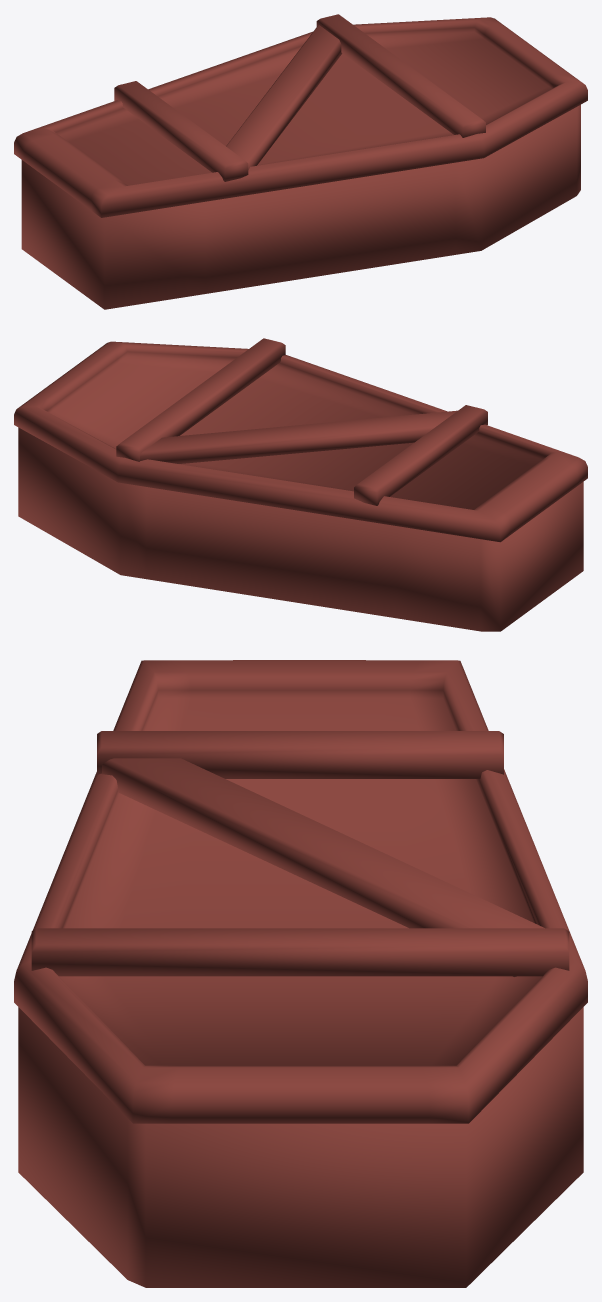
The model's file is Casket_Outside.glb.
3 views of the same model, one above another, from view 1: azimuth 30°, elevation 25°; view 2: azimuth 150°, elevation 25°; view 3: azimuth 270°, elevation 25° (orthographic). The views are drawn at different scales.
Visible parts, largest first — view 1: Casket_Outside; view 2: Casket_Outside; view 3: Casket_Outside.
Boxes of the visible parts, bbox=[...] form: Casket_Outside: bbox=[14, 14, 587, 309]; Casket_Outside: bbox=[14, 338, 587, 631]; Casket_Outside: bbox=[14, 660, 587, 1287].
Size of the model in its own units: 0.5986 by 0.1494 by 0.3339.
1 material, 1 textured.
